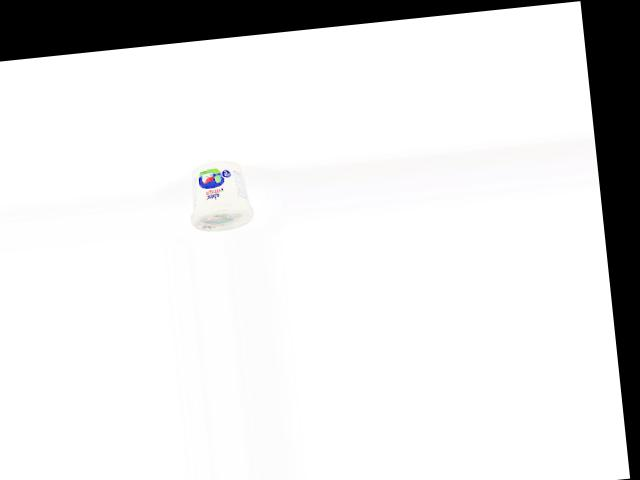cotage: (182, 156, 255, 234)
